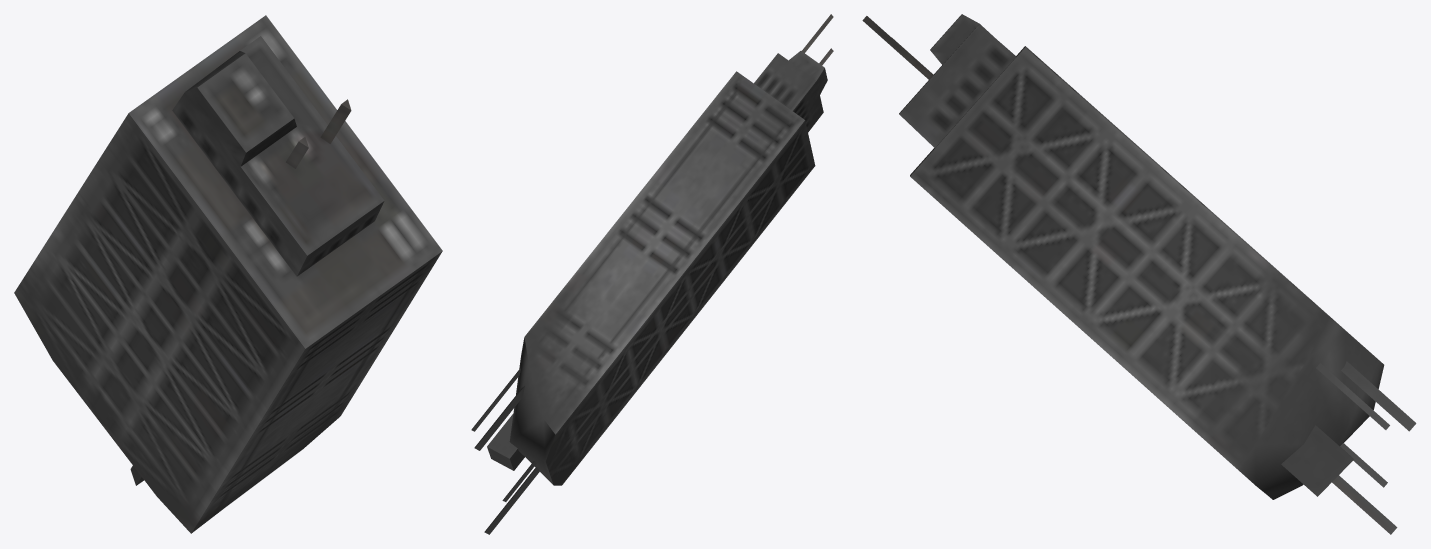
File: skyBuildingAAA_pos_grp (4).fbx
The picture shows the model from 3 angles, left to right: view 1: azimuth 30°, elevation 25°; view 2: azimuth 150°, elevation 25°; view 3: azimuth 270°, elevation 25°; orthographic projection. The views are drawn at different scales.
Parts seen in each view (by area): view 1: skyBuildingAAA_geo; view 2: skyBuildingAAA_geo; view 3: skyBuildingAAA_geo.
Part boxes in pixels (x1,y1,x2,y2): skyBuildingAAA_geo: (14,15,442,533); skyBuildingAAA_geo: (471,14,833,534); skyBuildingAAA_geo: (862,14,1416,534).
Size of the model in its own units: 4.43 by 8.28 by 9.21.
1 material, 1 textured.
